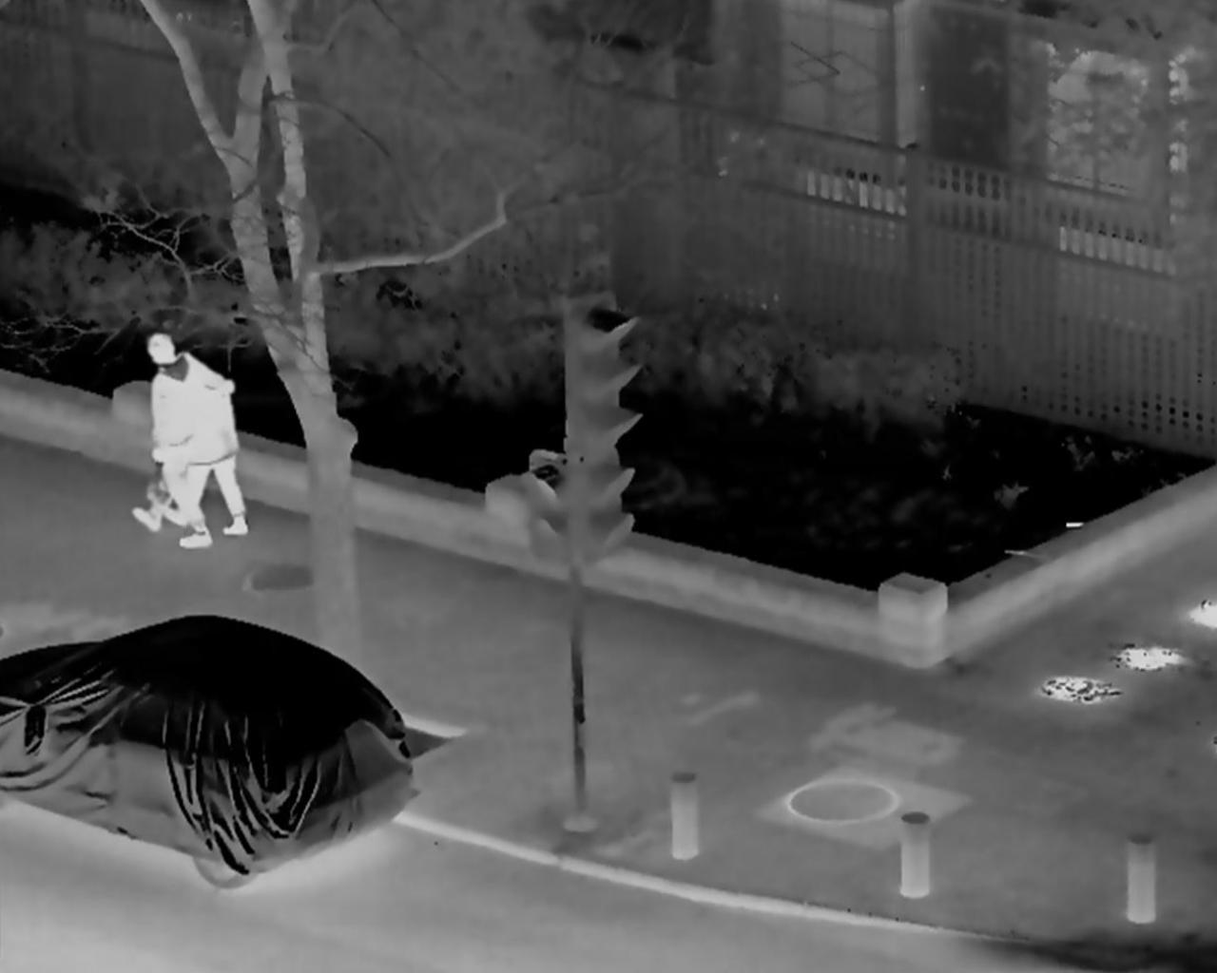person: (129, 334, 206, 556), (176, 348, 260, 537)
